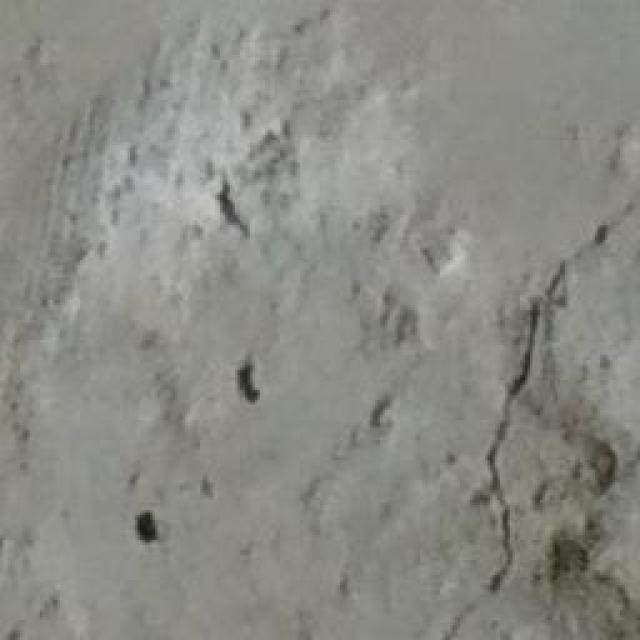Longitudinal: (410, 197, 639, 640)
Rippled: (25, 5, 364, 417)
